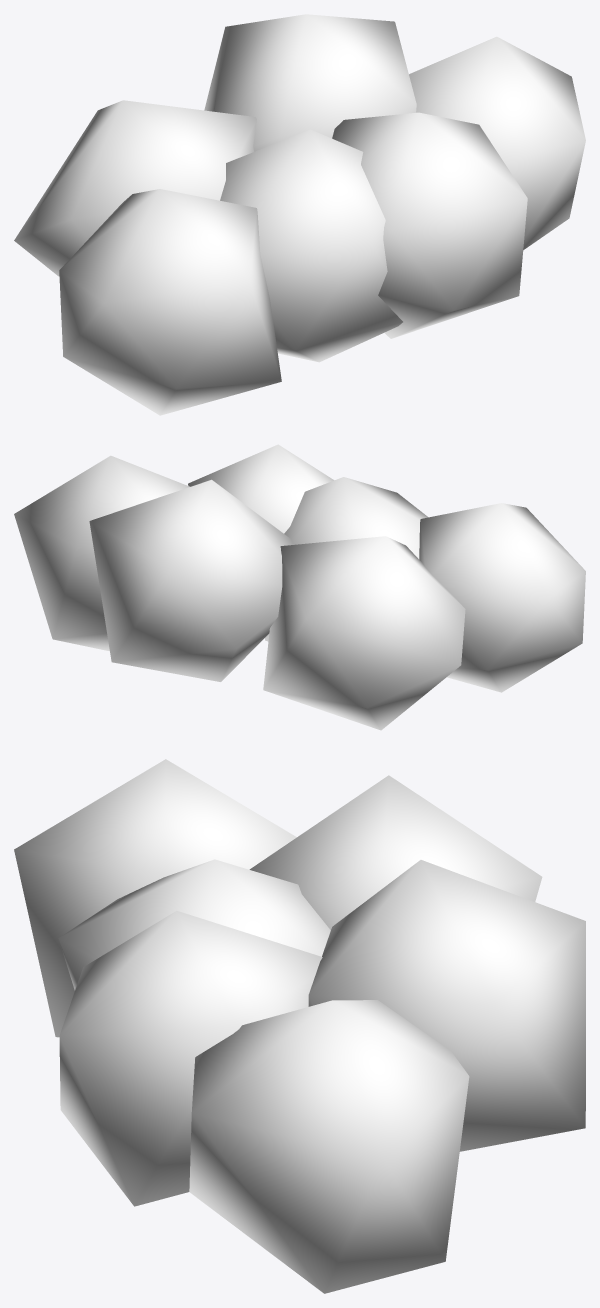
The model's file is cloud.glb.
3 views of the same model, one above another, from view 1: azimuth 30°, elevation 25°; view 2: azimuth 150°, elevation 25°; view 3: azimuth 270°, elevation 25° (orthographic). The views are drawn at different scales.
Parts seen in each view (by area): view 1: Icosphere.004; view 2: Icosphere.004; view 3: Icosphere.004.
Part boxes in pixels (x1,y1,x2,y2): Icosphere.004: (14,14,585,415); Icosphere.004: (14,444,585,730); Icosphere.004: (14,759,585,1293).
Size of the model in its own units: 2.62 by 1.13 by 1.72.
1 material, 1 textured.
